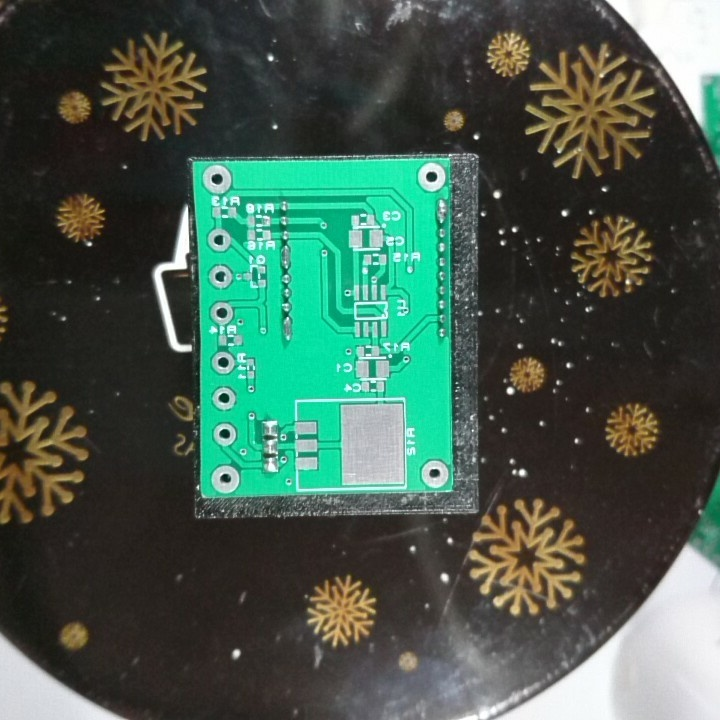F: (414, 160, 448, 193), (200, 163, 233, 196), (208, 463, 242, 495), (206, 260, 237, 292), (419, 459, 451, 490), (209, 420, 239, 449), (205, 227, 234, 255), (207, 349, 235, 378), (208, 298, 235, 327), (211, 385, 238, 413)
P: (278, 243, 294, 271), (434, 198, 450, 226), (281, 314, 294, 342)
